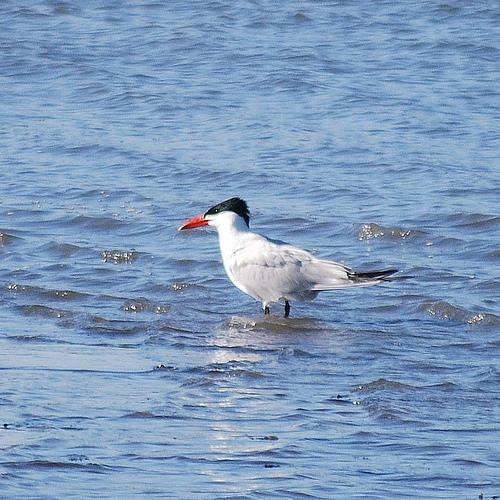bird: (178, 196, 402, 321)
